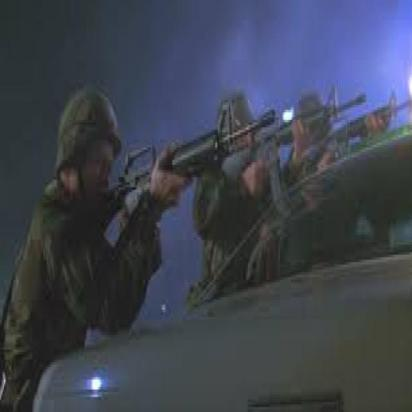Gun: (93, 99, 278, 244)
